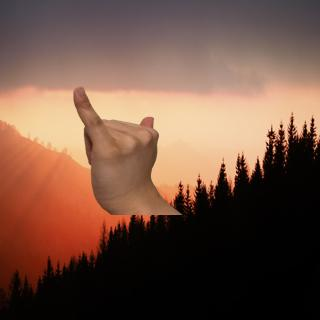HAVE: (68, 80, 173, 213)
